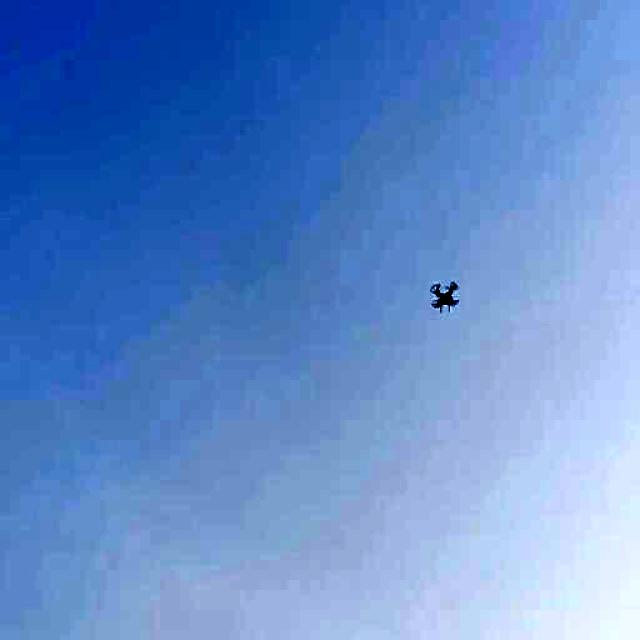bird: (430, 274, 462, 326)
